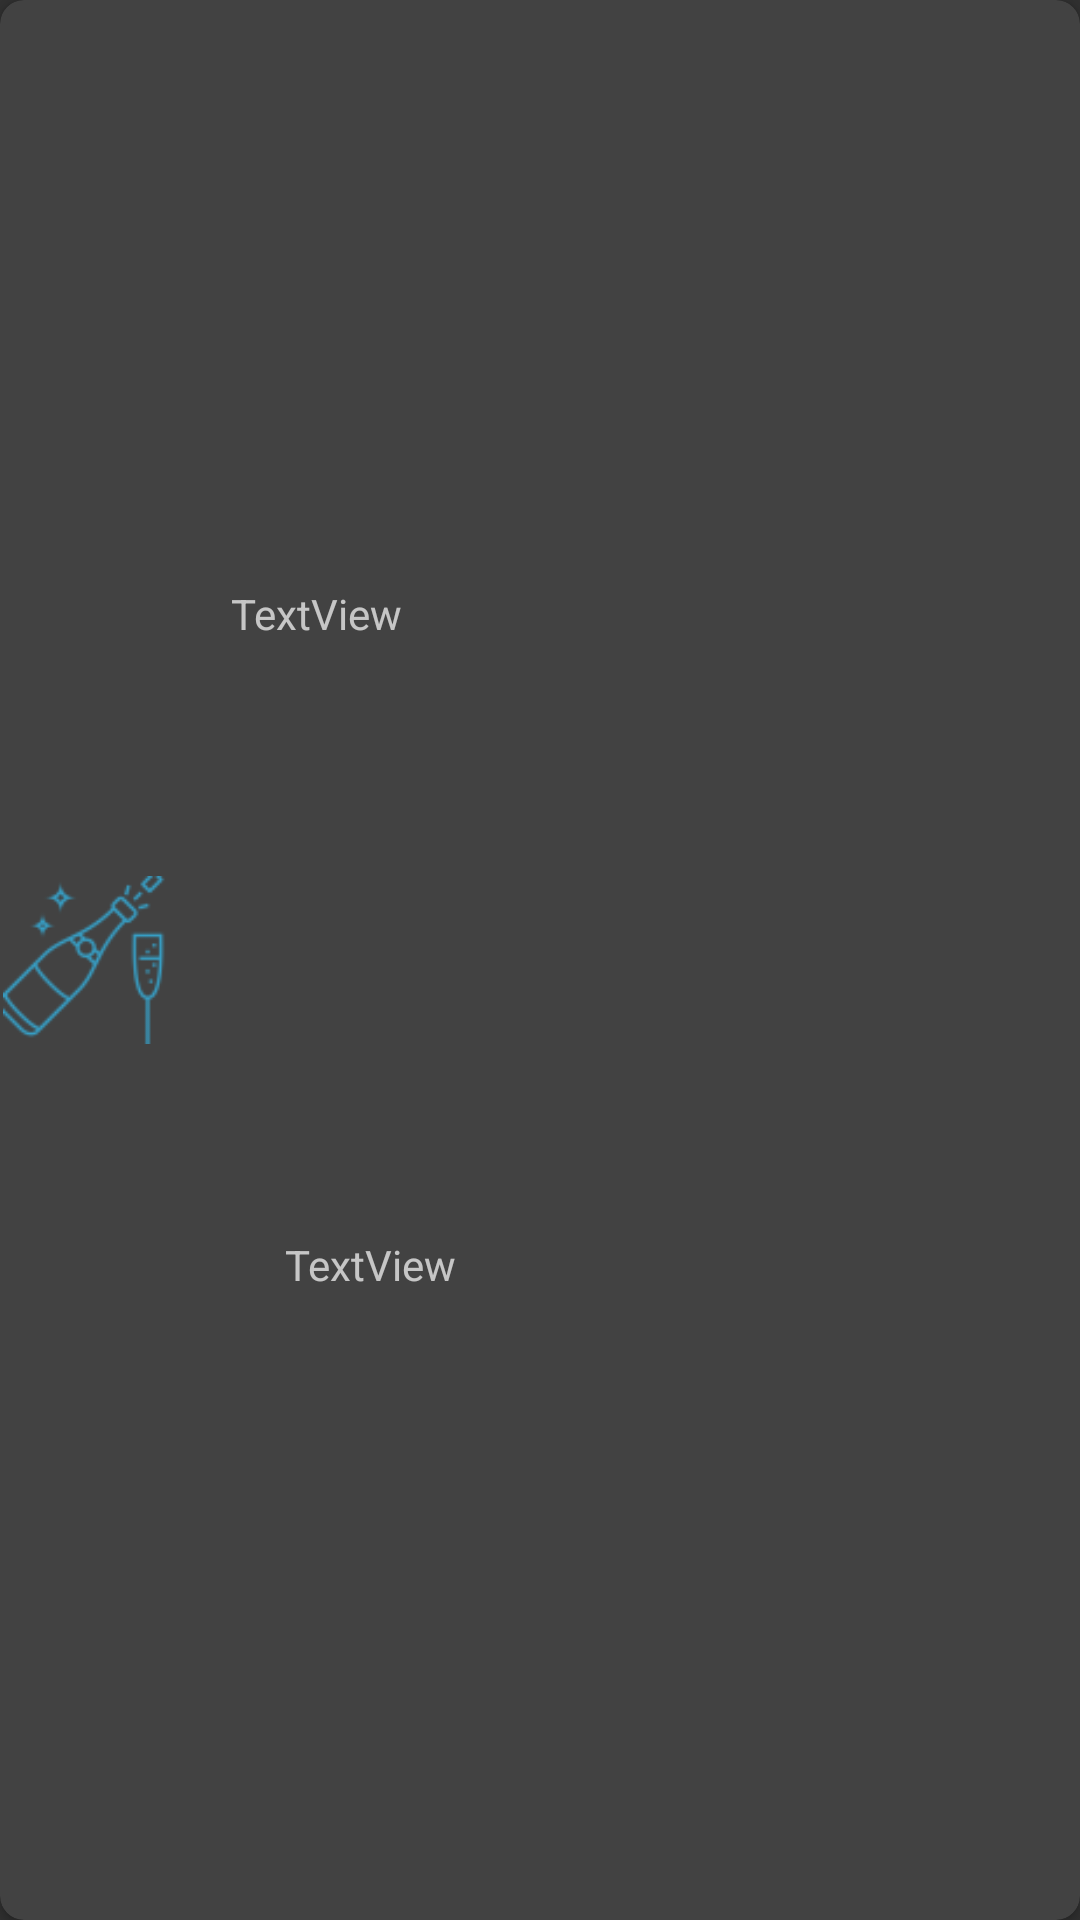

Point at icon controls on the screen. Image size 1080*1920, points as [x,y].
event: [83,960]
